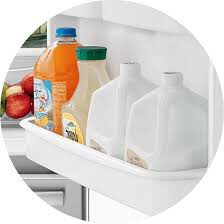milk: (87, 62, 209, 169)
